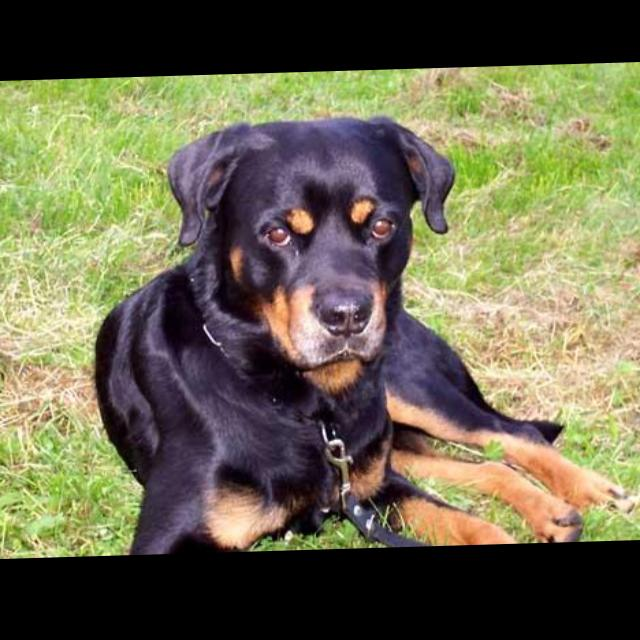rottweiler: (93, 111, 635, 558)
